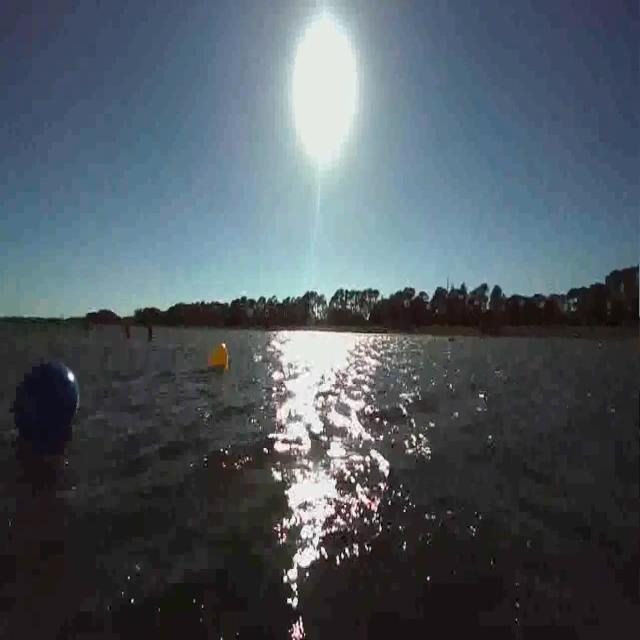blue-buoy: (6, 356, 80, 443)
yellow-buoy: (208, 341, 230, 372)
